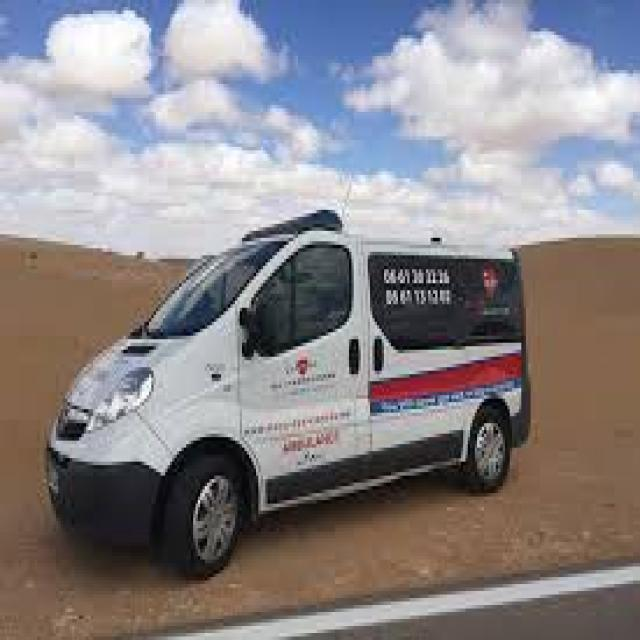ambulance: (36, 204, 550, 578)
